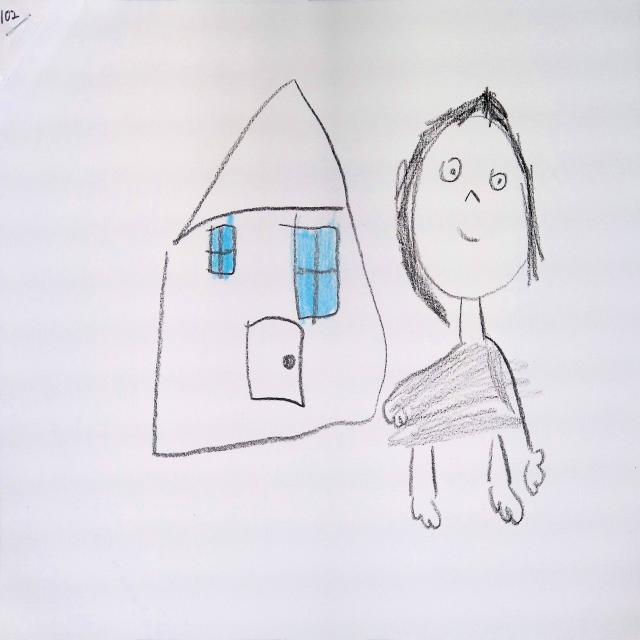door: (246, 317, 304, 407)
house: (153, 80, 387, 457)
roof: (171, 76, 357, 247)
wall: (147, 210, 390, 461)
window: (294, 226, 339, 319), (208, 224, 236, 276)
